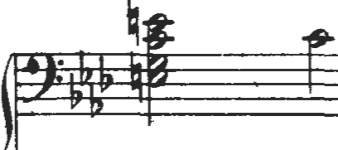bass_clef: (23, 47, 66, 106)
flat: (66, 68, 88, 115), (97, 48, 116, 96), (76, 47, 95, 90), (88, 82, 106, 123)
